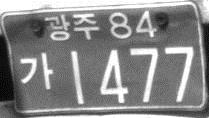1: (68, 47, 86, 107)
4: (97, 47, 129, 105), (135, 9, 157, 38)
7: (161, 45, 196, 103), (128, 46, 160, 106)
8: (108, 10, 133, 39)
가: (18, 50, 54, 91)
광주_O: (43, 13, 100, 42)
